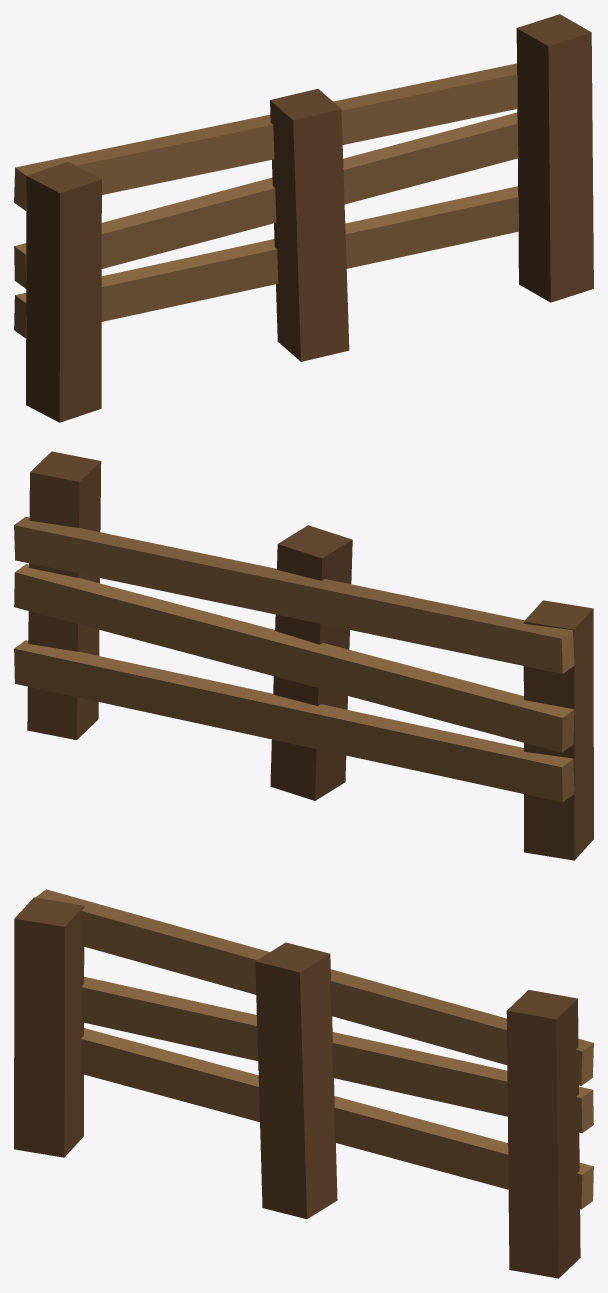
Rendered from Scatter_WoodFenceSegment.fbx.
3 renders of one model, top to bottom at view 1: azimuth 30°, elevation 25°; view 2: azimuth 150°, elevation 25°; view 3: azimuth 330°, elevation 25°, orthographic.
Parts seen in each view (by area): view 1: WoodFenceSegment; view 2: WoodFenceSegment; view 3: WoodFenceSegment.
Part boxes in pixels (x1,y1,x2,y2): WoodFenceSegment: (14, 14, 593, 422); WoodFenceSegment: (14, 451, 593, 860); WoodFenceSegment: (14, 889, 593, 1278).
Bounding box in the file's own units: 8.21 × 3.71 × 1.
